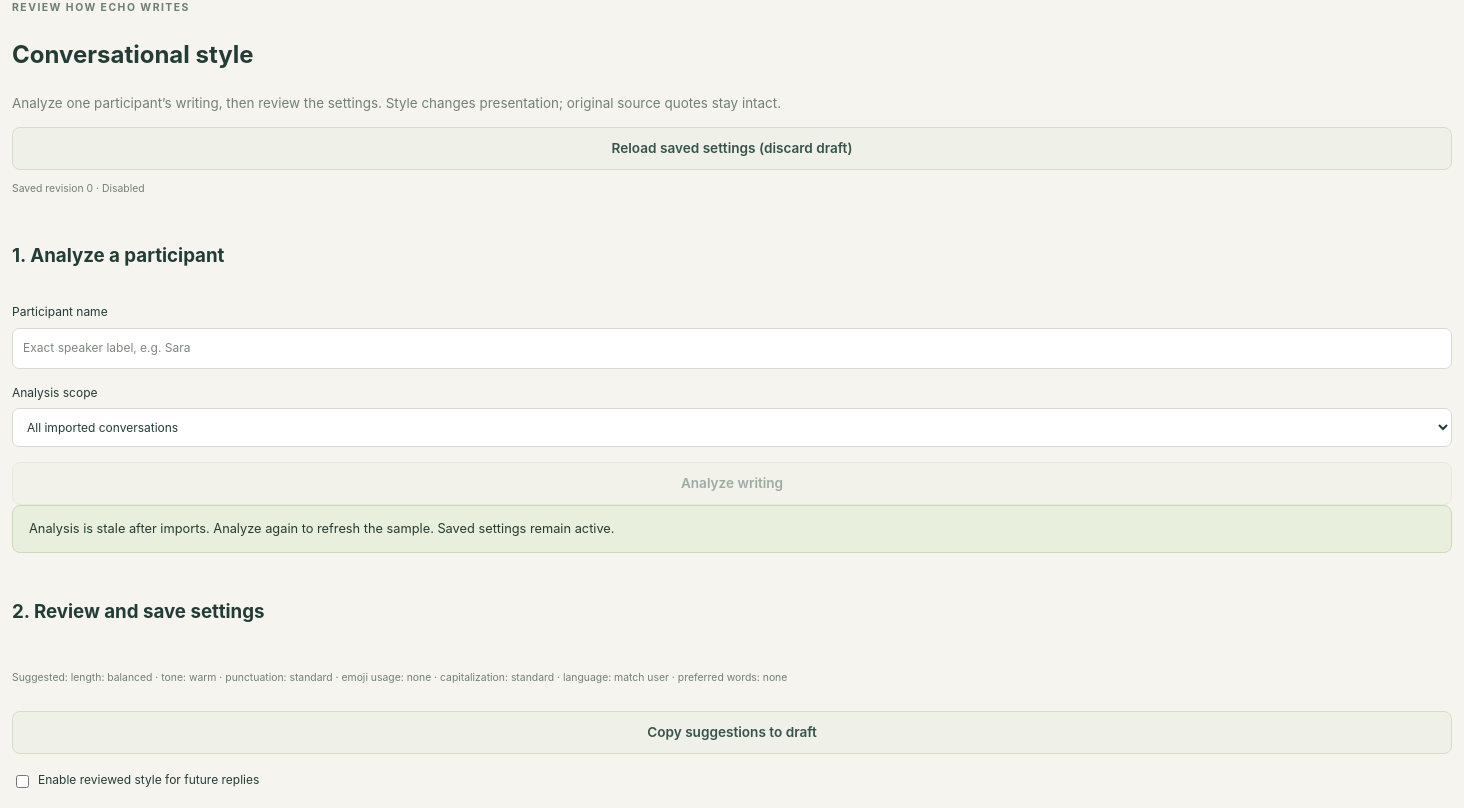
stale analysis is visible and copying suggestions does not enable an inactive style
Expected: the text "Analysis is stale after imports" is shown, [29,521,614,536]
Click the button "Copy suggestions to draft" at (732, 733), box [12,711,1452,754]
(page scrolled)
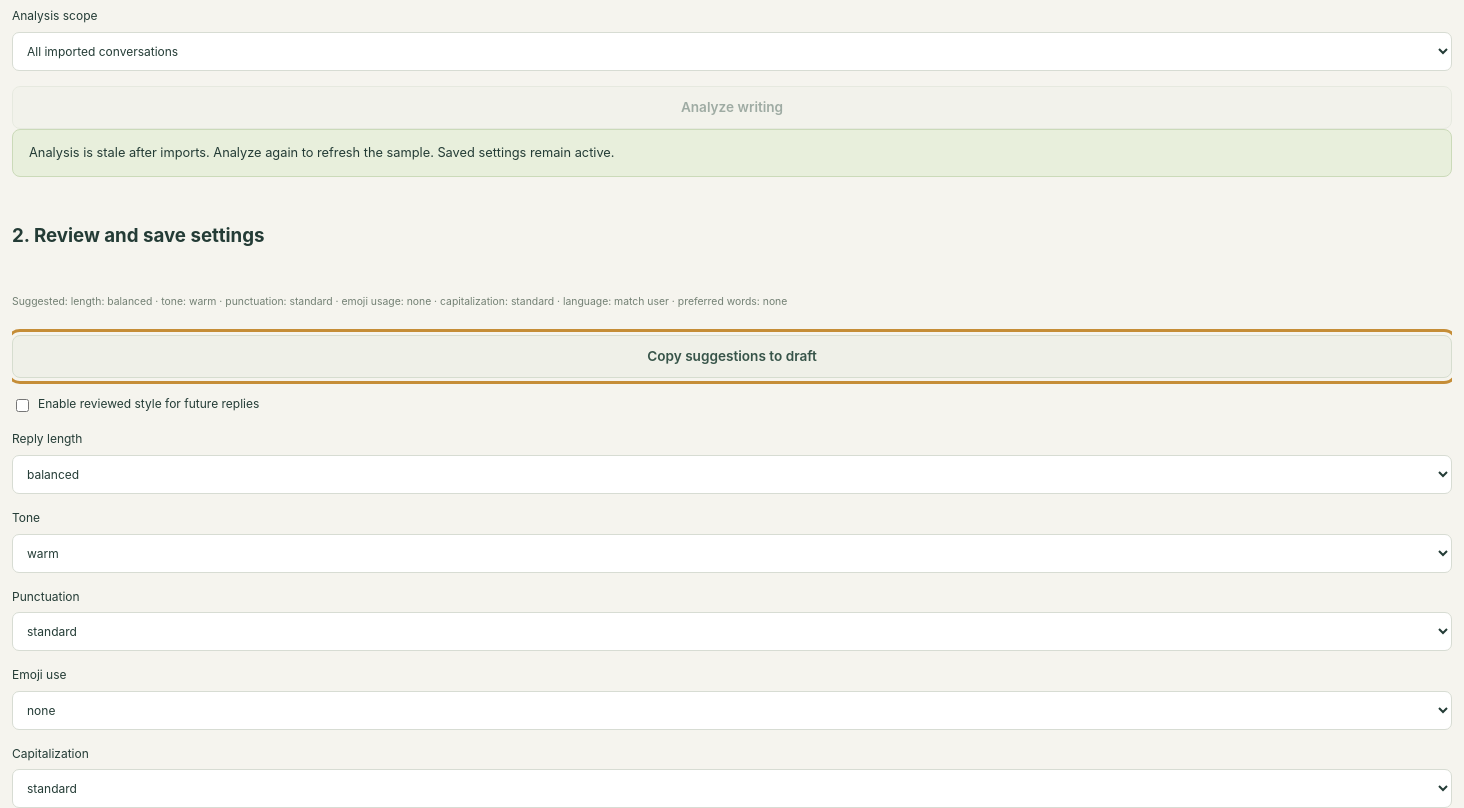
Expected: the checkbox labelled "Enable reviewed style for future replies" is not checked, [16,399,29,412]
Now the dropdown labelled "Tone" shows "warm", box [12,534,1452,572]
